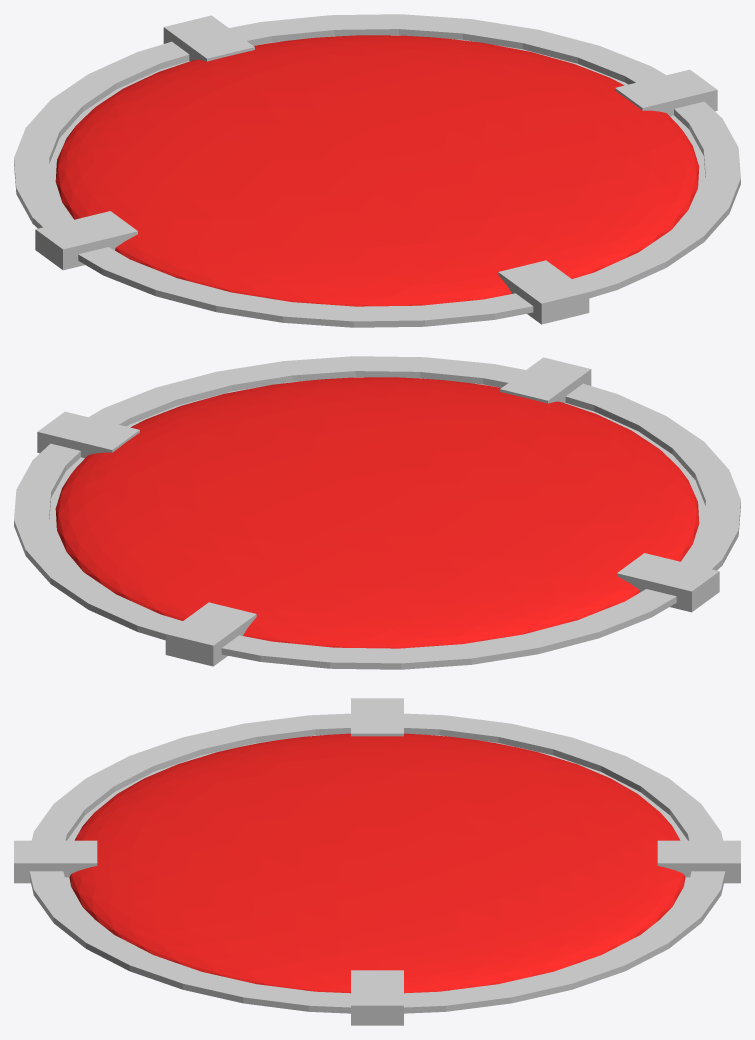
The model's file is RedTeleporter.fbx.
The picture shows the model from 3 angles, top to bottom: view 1: azimuth 30°, elevation 25°; view 2: azimuth 150°, elevation 25°; view 3: azimuth 270°, elevation 25°; orthographic projection. The views are drawn at different scales.
Visible parts, largest first — view 1: Red Teleporter; view 2: Red Teleporter; view 3: Red Teleporter.
Boxes of the visible parts, box(x1,y1,x2,y2) form: Red Teleporter: box(14, 14, 740, 327); Red Teleporter: box(14, 356, 740, 669); Red Teleporter: box(14, 698, 740, 1025).
Size of the model in its own units: 207 by 10.57 by 207.
